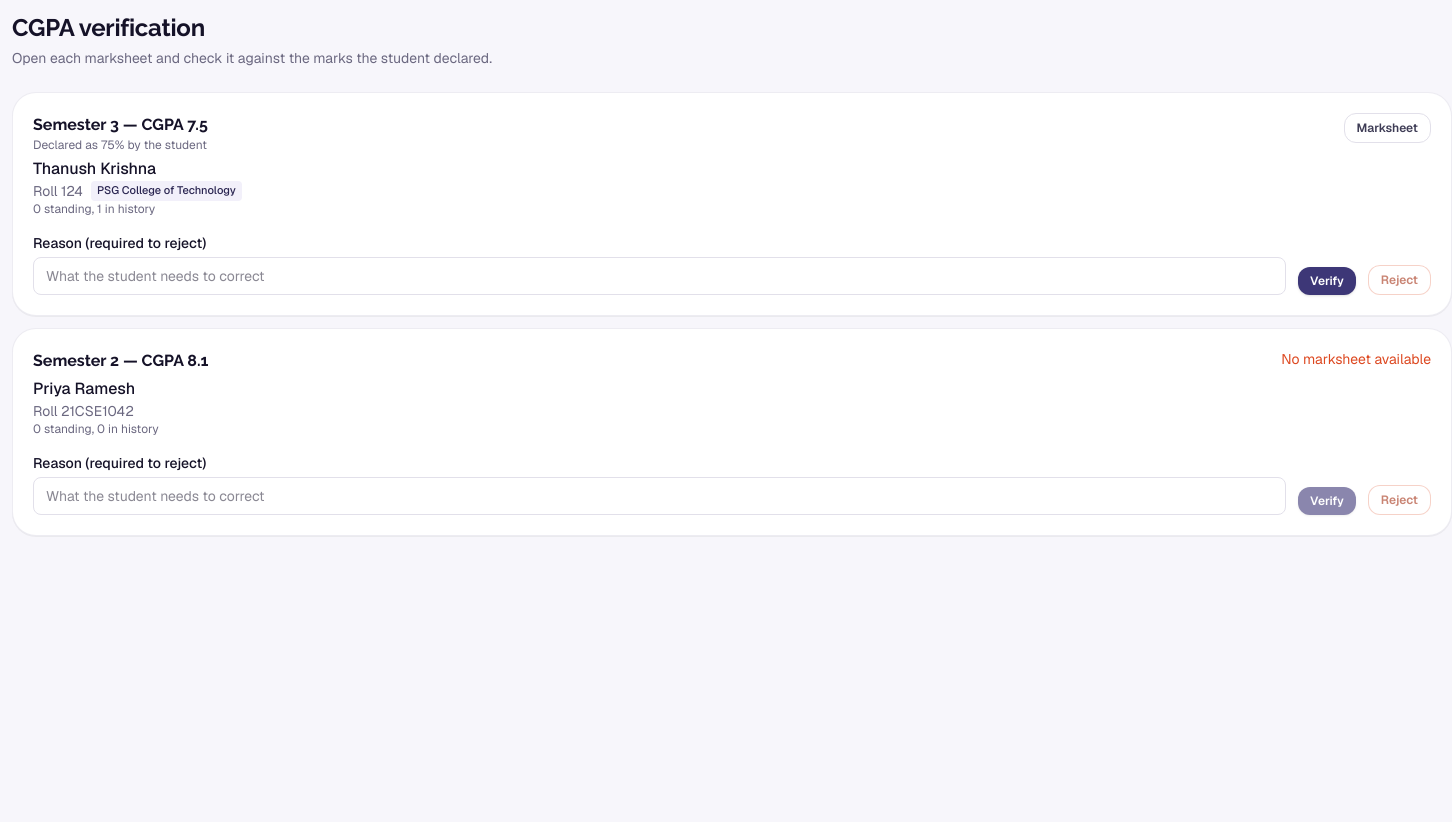
Test case: SemesterQueue › verifies a semester and reloads the queue
This screenshot has width=1452, height=822.
Step 1. Click the 1st button "Verify" → click(1327, 281), box 1298,267 -> 1356,295
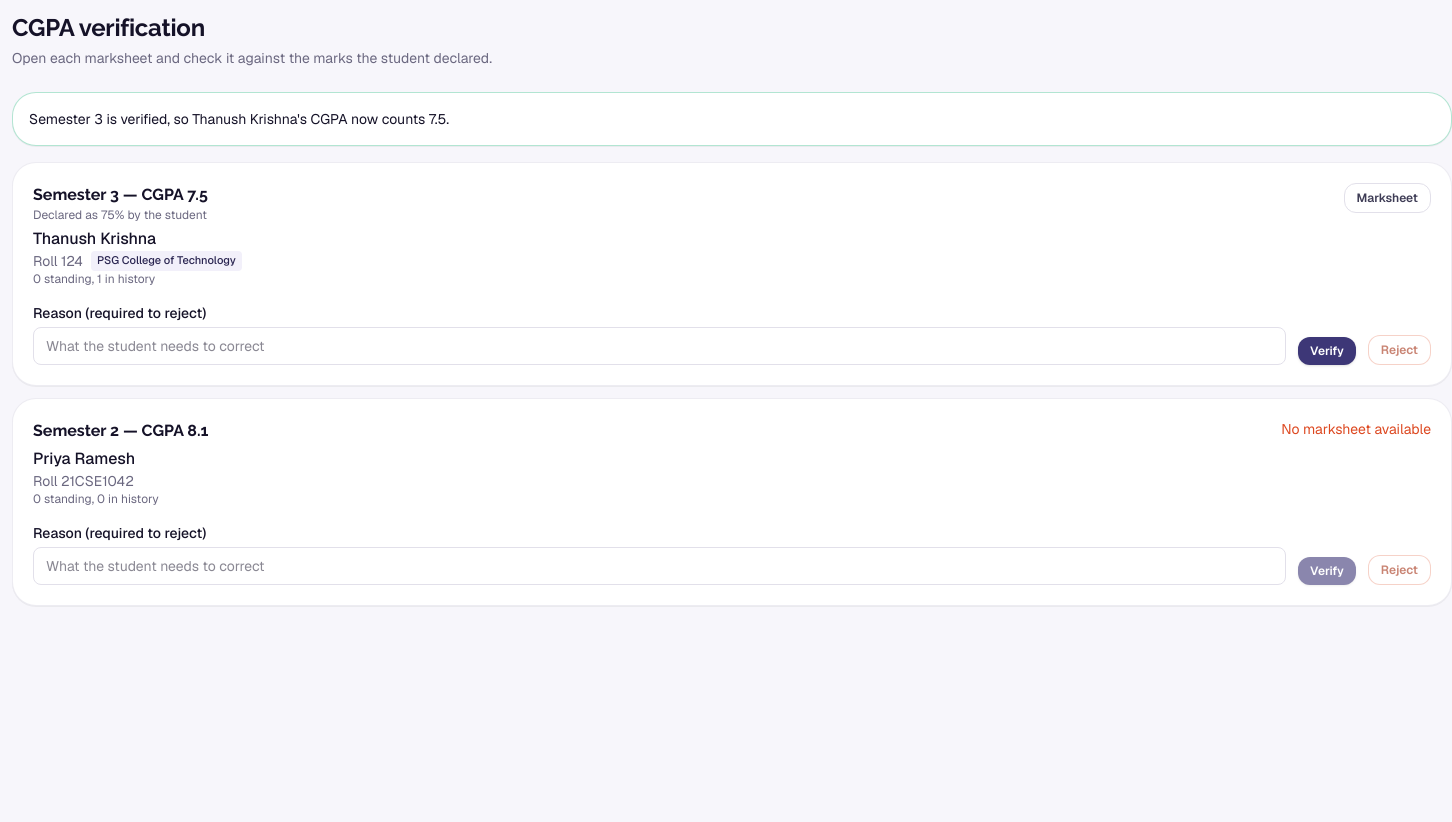
Now the message shows "Semester 3 is verified", box 29,110 -> 449,128
Now the message shows "Thanush Krishna's CGPA now counts 7.5", box 29,110 -> 449,128
